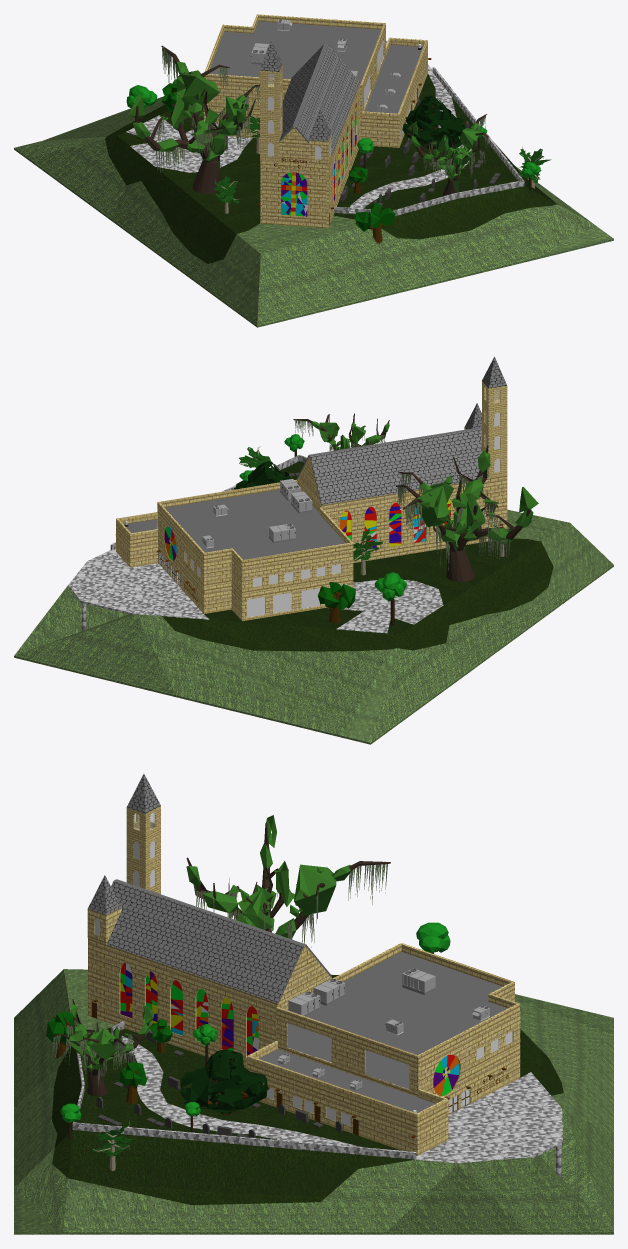
The model's file is Church - Traditional.glb.
The picture shows the model from 3 angles, top to bottom: view 1: azimuth 30°, elevation 25°; view 2: azimuth 150°, elevation 25°; view 3: azimuth 270°, elevation 25°; orthographic projection. The views are drawn at different scales.
Visible parts, largest first — view 1: Ground, Leaves, Sanct Walls, High Roof, Trunks, 2nd Floor, Front Wall, 1st Flr, Steeple, Low Roof, Cemetery Wall, Stained Glass Windows (+4 smaller); view 2: Ground, Sanct Walls, Leaves, 2nd Floor, High Roof, 1st Flr, Trunks, Steeple, Windows, Pavillion Extension, Stained Glass Windows, RTU HP; view 3: Ground, Sanct Walls, Leaves, High Roof, 1st Flr, 2nd Floor, Windows, Stained Glass Windows, Trunks, Steeple, Cemetery Wall, Pavillion Extension (+6 smaller).
Boxes of the visible parts, x1,y1,x2,y2 form: Ground: [14, 40, 613, 327]; Leaves: [126, 47, 551, 231]; Sanct Walls: [260, 44, 360, 227]; High Roof: [208, 21, 381, 83]; Trunks: [135, 45, 543, 243]; 2nd Floor: [203, 14, 385, 118]; Front Wall: [262, 160, 326, 227]; 1st Flr: [203, 37, 427, 147]; Steeple: [260, 40, 282, 161]; Low Roof: [365, 44, 423, 113]; Cemetery Wall: [334, 67, 524, 216]; Stained Glass Windows: [281, 103, 356, 216]; Ground: [14, 461, 613, 744]; Sanct Walls: [297, 427, 507, 562]; Leaves: [234, 415, 538, 610]; 2nd Floor: [157, 480, 353, 594]; High Roof: [165, 489, 345, 559]; 1st Flr: [116, 512, 353, 621]; Trunks: [239, 413, 531, 625]; Steeple: [482, 356, 507, 478]; Windows: [164, 387, 499, 617]; Pavillion Extension: [68, 585, 180, 630]; Stained Glass Windows: [339, 498, 450, 548]; RTU HP: [269, 479, 312, 543]; Ground: [14, 969, 613, 1234]; Sanct Walls: [88, 879, 331, 1068]; Leaves: [46, 815, 450, 1156]; High Roof: [288, 951, 507, 1064]; 1st Flr: [246, 1041, 520, 1155]; 2nd Floor: [276, 943, 520, 1097]; Windows: [94, 812, 512, 1126]; Stained Glass Windows: [120, 962, 258, 1055]; Trunks: [51, 823, 433, 1170]; Steeple: [126, 774, 160, 894]; Cemetery Wall: [72, 1021, 416, 1159]; Pavillion Extension: [487, 1099, 562, 1177].
Bounding box in the file's own units: 68.05 × 39.45 × 74.77.
48 materials, 5 textured.
